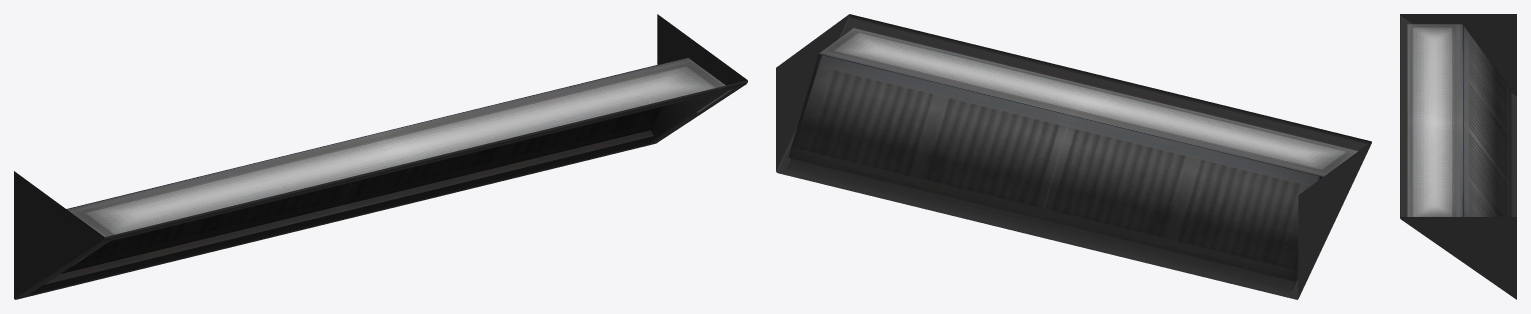
The model's file is p6_industrial_stove_vent_lod0.glb.
The picture shows the model from 3 angles, left to right: view 1: azimuth 30°, elevation 25°; view 2: azimuth 150°, elevation 25°; view 3: azimuth 270°, elevation 25°; orthographic projection. The views are drawn at different scales.
Visible parts, largest first — view 1: surf0, surf1; view 2: surf0, surf1; view 3: surf0, surf1.
Part boxes in pixels (left/top/right/bottom): surf0: left=14, top=14, right=747, bottom=299; surf1: left=82, top=65, right=717, bottom=234; surf0: left=776, top=14, right=1371, bottom=299; surf1: left=831, top=31, right=1349, bottom=170; surf0: left=1400, top=14, right=1516, bottom=299; surf1: left=1411, top=26, right=1454, bottom=216.
Bounding box in the file's own units: 131 × 25.25 × 32.
